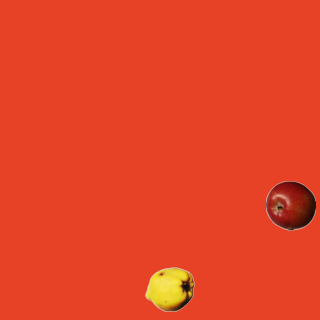Apple Braeburn: (265, 180, 315, 230)
Quince: (144, 264, 194, 314)
